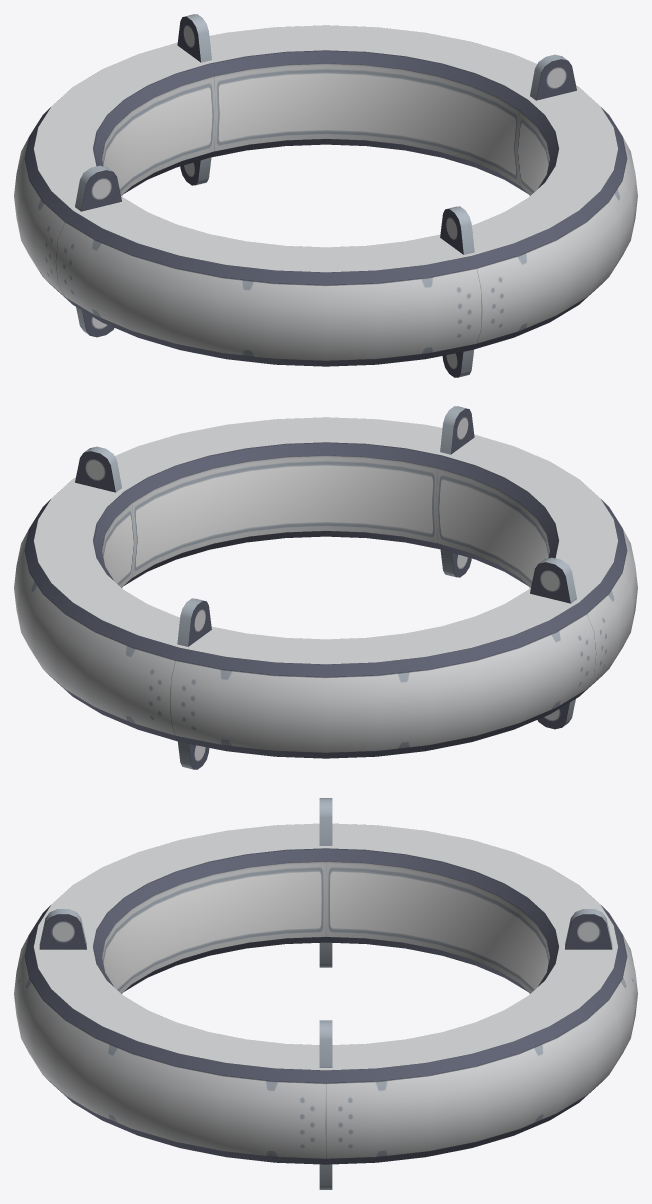
The model's file is Light_Ring_01.FBX.
3 views of the same model, one above another, from view 1: azimuth 30°, elevation 25°; view 2: azimuth 150°, elevation 25°; view 3: azimuth 270°, elevation 25° (orthographic).
Visible parts, largest first — view 1: Light_Ring_01, Attach_A, Attach_B; view 2: Light_Ring_01, Attach_A, Attach_B; view 3: Light_Ring_01, Attach_A, Attach_B.
Boxes of the visible parts, box(x1,y1,x2,y2) form: Light_Ring_01: box(14, 25, 637, 366); Attach_A: box(75, 14, 576, 254); Attach_B: box(76, 157, 474, 377); Light_Ring_01: box(14, 417, 637, 758); Attach_A: box(75, 406, 576, 646); Attach_B: box(177, 549, 575, 769); Light_Ring_01: box(14, 823, 637, 1164); Attach_A: box(39, 798, 612, 1067); Attach_B: box(319, 942, 332, 1189).
Bounding box in the file's own units: 6 × 1.75 × 6.
